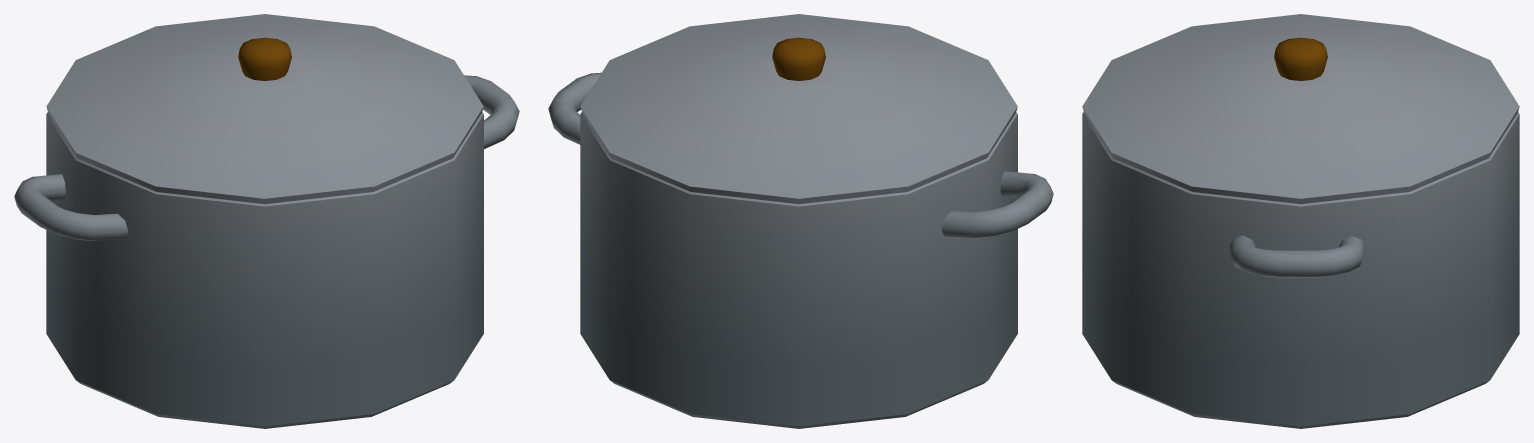
File: Pot_02.fbx
3 renders of one model, left to right at view 1: azimuth 30°, elevation 25°; view 2: azimuth 150°, elevation 25°; view 3: azimuth 270°, elevation 25°, orthographic.
Visible parts, largest first — view 1: Pot_02, Lid_pot_02; view 2: Pot_02, Lid_pot_02; view 3: Pot_02, Lid_pot_02.
Boxes of the visible parts, x1,y1,x2,y2 form: Pot_02: (14, 75, 519, 428); Lid_pot_02: (46, 14, 483, 204); Pot_02: (548, 72, 1053, 428); Lid_pot_02: (580, 14, 1017, 204); Pot_02: (1082, 112, 1519, 428); Lid_pot_02: (1082, 14, 1519, 204).
Bounding box in the file's own units: 99.29 × 59.06 × 78.96.
